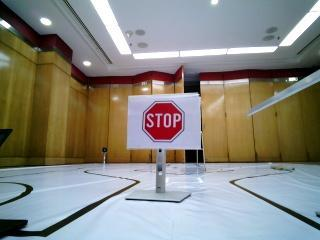stop: (129, 97, 190, 144)
